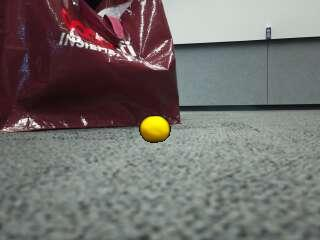lemon: (140, 117, 170, 143)
